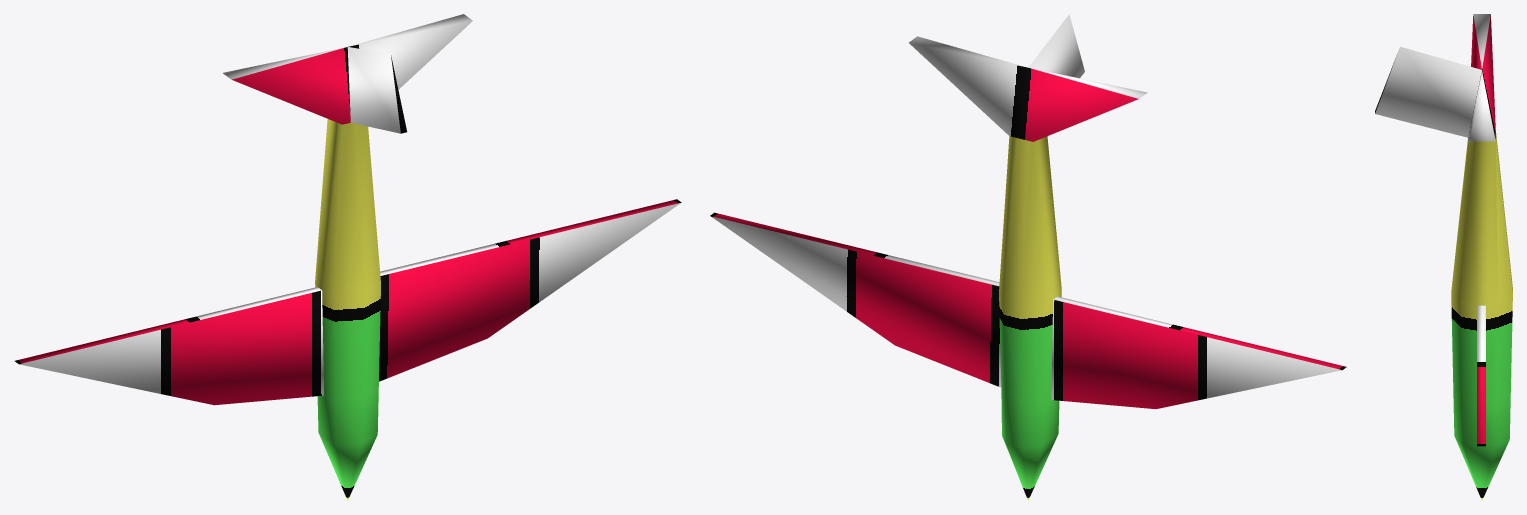
The model's file is boss0.fbx.
3 views of the same model, side by side, from view 1: azimuth 30°, elevation 25°; view 2: azimuth 150°, elevation 25°; view 3: azimuth 270°, elevation 25° (orthographic). The views are drawn at different scales.
Visible parts, largest first — view 1: Cube; view 2: Cube; view 3: Cube.
Part boxes in pixels (bbox=[...]): Cube: bbox=[15, 14, 681, 500]; Cube: bbox=[710, 14, 1346, 500]; Cube: bbox=[1375, 14, 1512, 500].
Bounding box in the file's own units: 9.65 × 6.66 × 1.83.
1 material, 1 textured.
